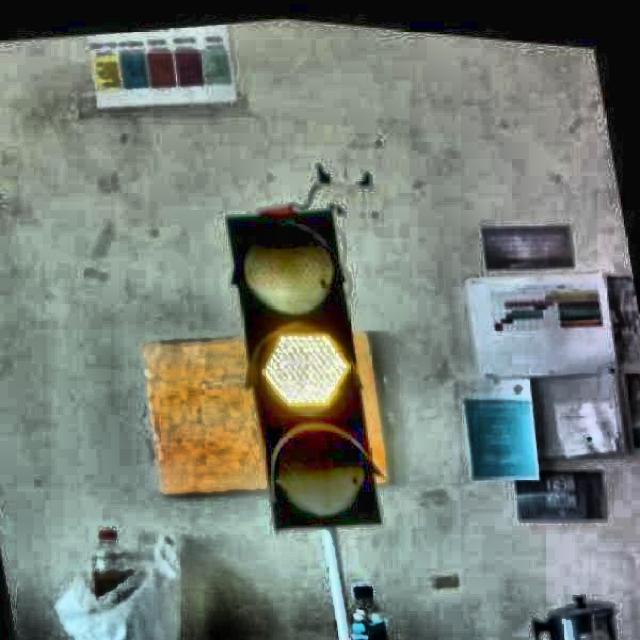yellow: (233, 210, 382, 532)
